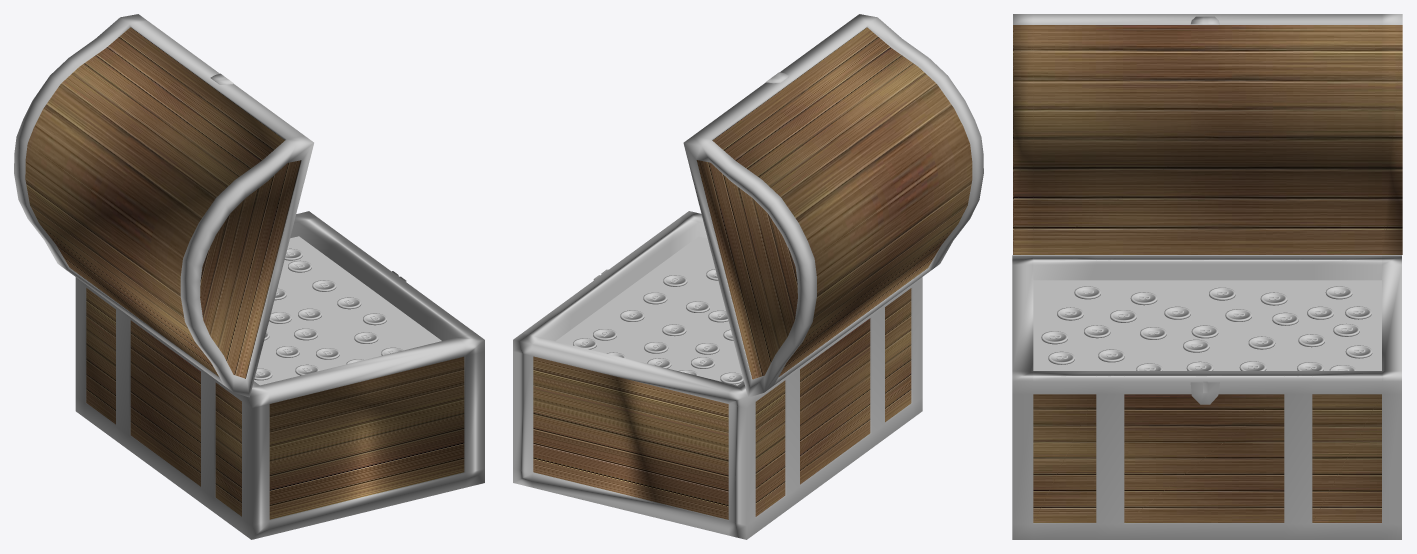
Rendered from coffre_trésor_piece.fbx.
The picture shows the model from 3 angles, left to right: view 1: azimuth 30°, elevation 25°; view 2: azimuth 150°, elevation 25°; view 3: azimuth 270°, elevation 25°; orthographic projection. The views are drawn at different scales.
Visible parts, largest first — view 1: Plane_001, Cube, Plane; view 2: Plane_001, Cube, Plane; view 3: Plane_001, Cube, Plane.
Part boxes in pixels (x1,y1,x2,y2): Plane_001: [14, 14, 313, 397]; Cube: [75, 211, 484, 539]; Plane: [254, 236, 441, 385]; Plane_001: [683, 14, 983, 397]; Cube: [513, 211, 922, 539]; Plane: [556, 236, 743, 385]; Plane_001: [1013, 14, 1402, 254]; Cube: [1012, 255, 1401, 539]; Plane: [1033, 280, 1381, 370].
Bounding box in the file's own units: 2.01 × 2.48 × 2.06.
